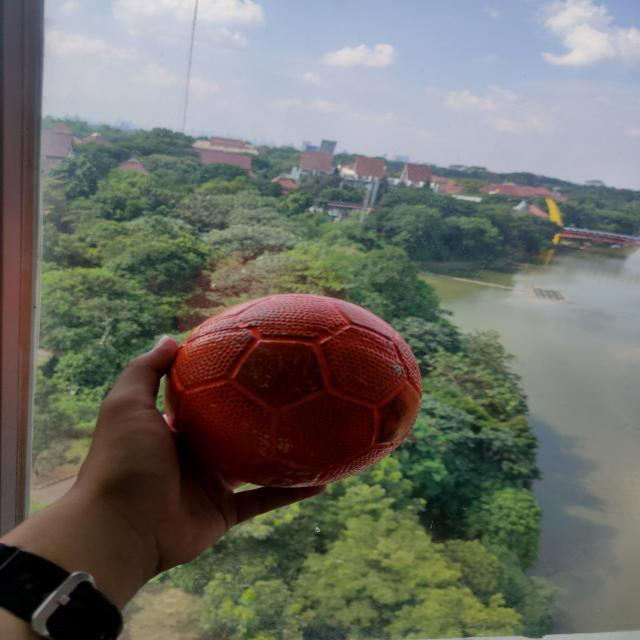bola: (162, 285, 432, 501)
